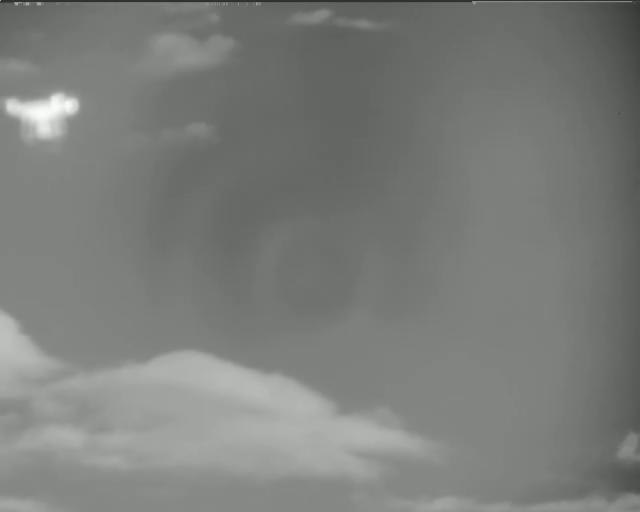uav: (5, 90, 83, 146)
